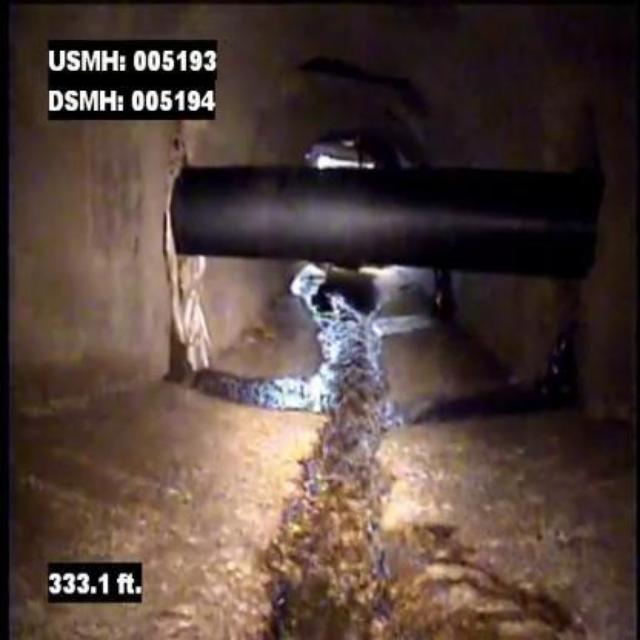Utility intrusion: (157, 155, 620, 289)
